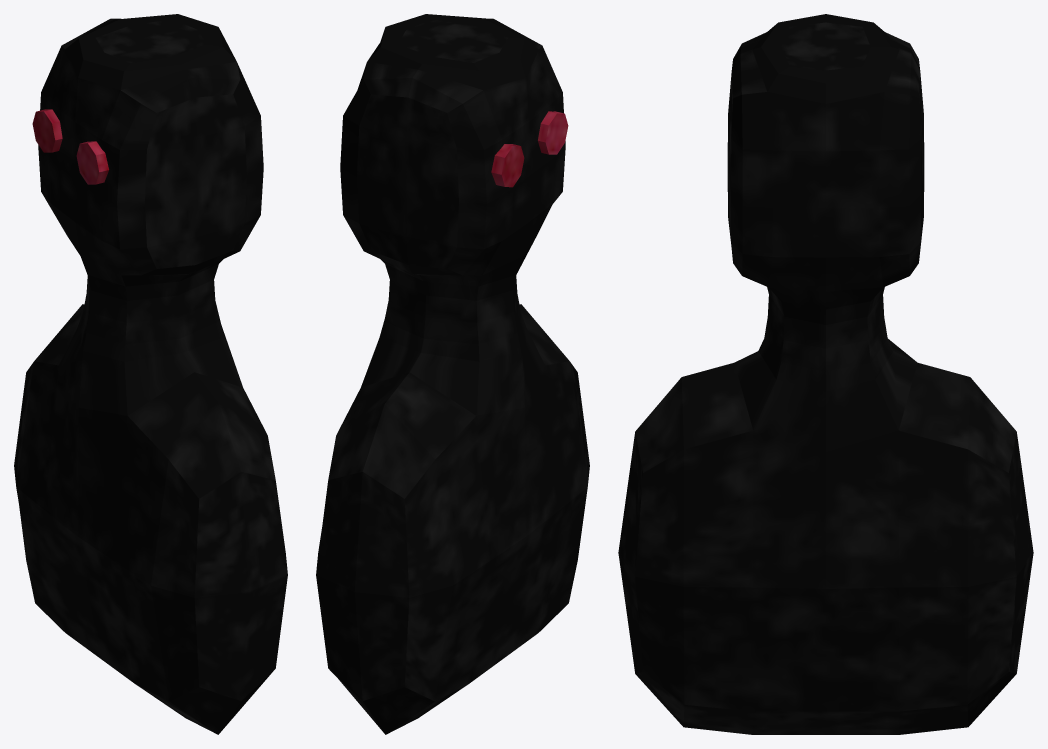
The model's file is monster.fbx.
3 views of the same model, side by side, from view 1: azimuth 30°, elevation 25°; view 2: azimuth 150°, elevation 25°; view 3: azimuth 270°, elevation 25° (orthographic). The views are drawn at different scales.
Visible parts, largest first — view 1: Cube.055, Cylinder.009, Cylinder.008; view 2: Cube.055, Cylinder.008, Cylinder.009; view 3: Cube.055.
Part boxes in pixels (x1=…): Cube.055: x1=14, y1=14, x2=287, y2=734; Cylinder.009: x1=76, y1=141, x2=108, y2=184; Cylinder.008: x1=32, y1=109, x2=62, y2=152; Cube.055: x1=316, y1=14, x2=589, y2=734; Cylinder.008: x1=491, y1=144, x2=524, y2=187; Cylinder.009: x1=538, y1=111, x2=568, y2=154; Cube.055: x1=618, y1=14, x2=1033, y2=734.
Size of the model in its own units: 26.57 by 103 by 56.49.
